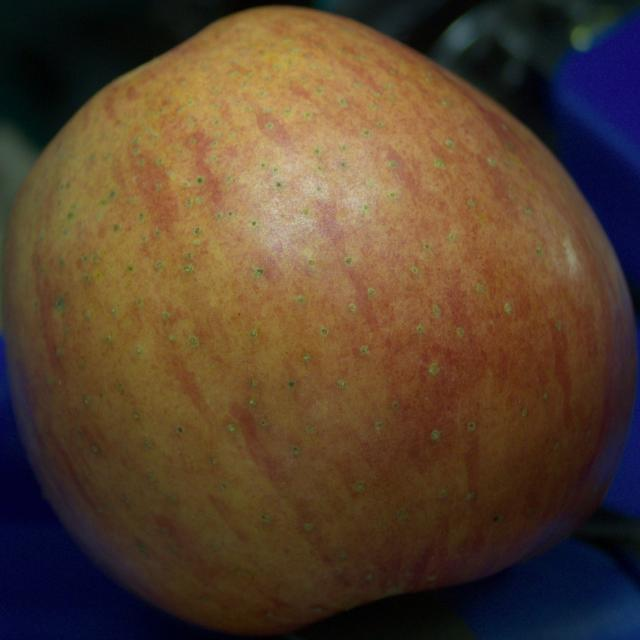apple: (3, 8, 636, 634)
